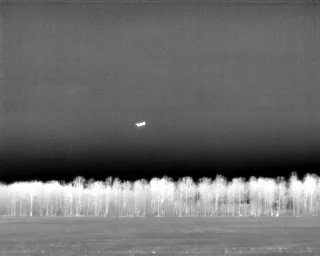DRONE: (131, 116, 151, 133)
